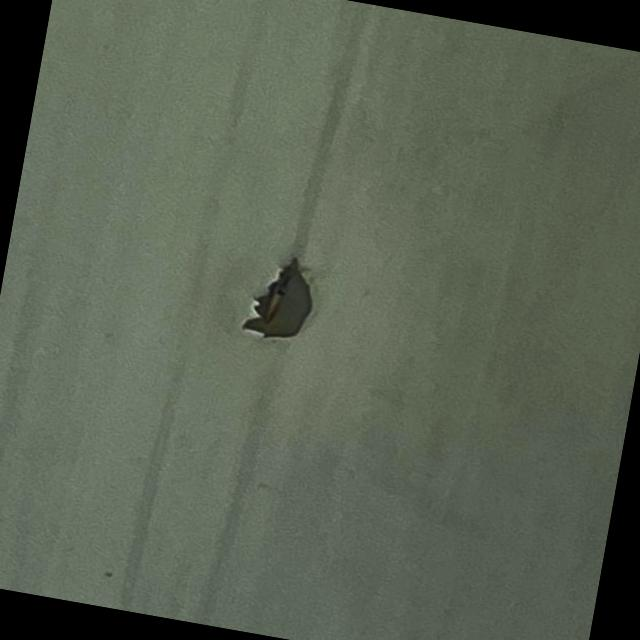crack: (240, 262, 315, 336)
